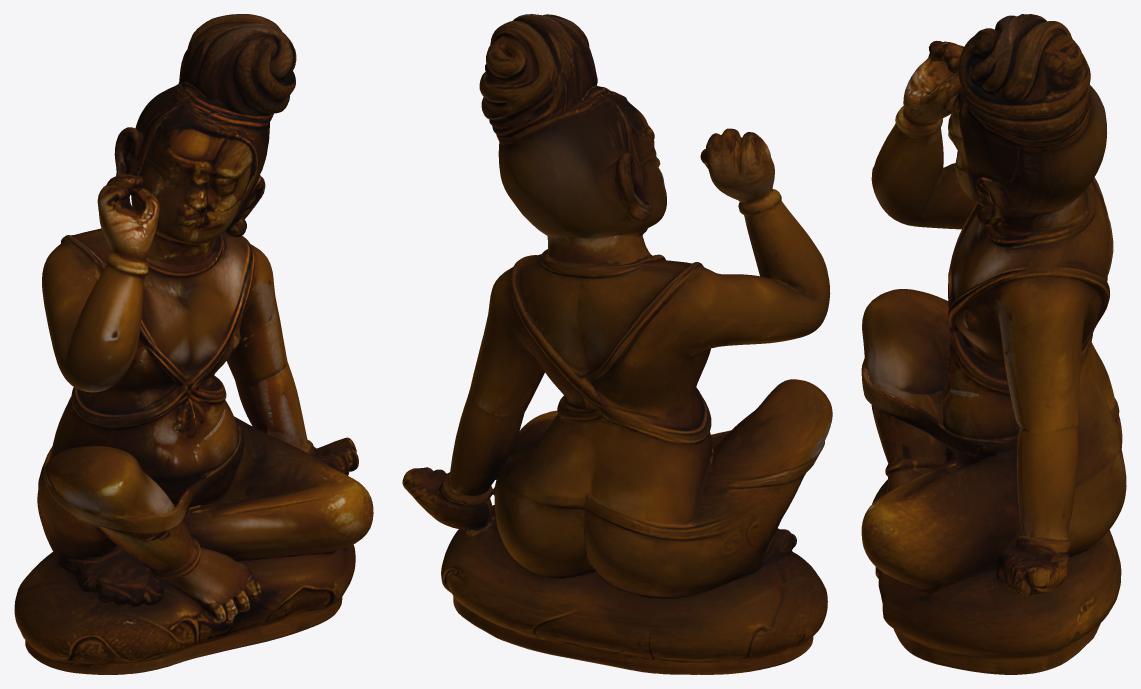
The picture shows the model from 3 angles, left to right: view 1: azimuth 30°, elevation 25°; view 2: azimuth 150°, elevation 25°; view 3: azimuth 270°, elevation 25°; orthographic projection. The views are drawn at different scales.
Parts seen in each view (by area): view 1: textured_mesh; view 2: textured_mesh; view 3: textured_mesh.
Part boxes in pixels (x1,y1,x2,y2): textured_mesh: [14, 14, 373, 674]; textured_mesh: [402, 14, 832, 674]; textured_mesh: [861, 14, 1126, 674].
Bounding box in the file's own units: 1.31 × 1.97 × 0.7726.
1 material, 1 textured.
